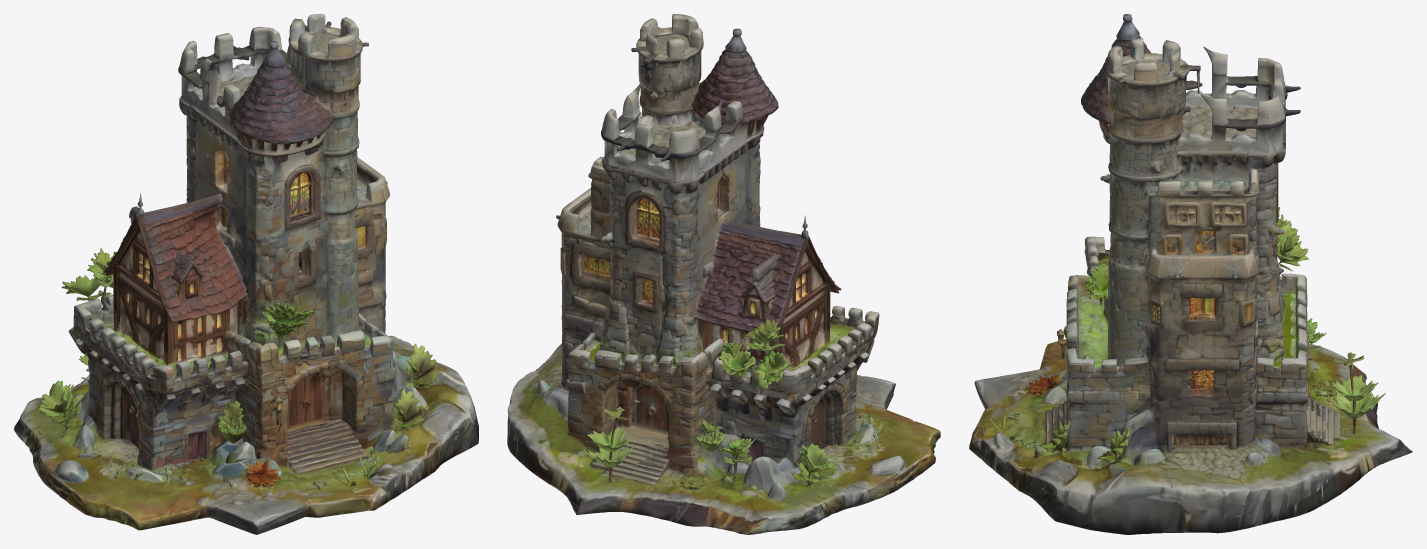
The model's file is Emberkeep_Turret.glb.
3 views of the same model, side by side, from view 1: azimuth 30°, elevation 25°; view 2: azimuth 150°, elevation 25°; view 3: azimuth 270°, elevation 25° (orthographic). The views are drawn at different scales.
Visible parts, largest first — view 1: Emberkeep_Turret; view 2: Emberkeep_Turret; view 3: Emberkeep_Turret.
Part boxes in pixels (<box>): Emberkeep_Turret: <box>14,14,478,534</box>; Emberkeep_Turret: <box>507,14,940,534</box>; Emberkeep_Turret: <box>969,14,1412,534</box>.
Size of the model in its own units: 1.88 by 1.9 by 1.8.
Materials: 1 (1 with a texture image).
